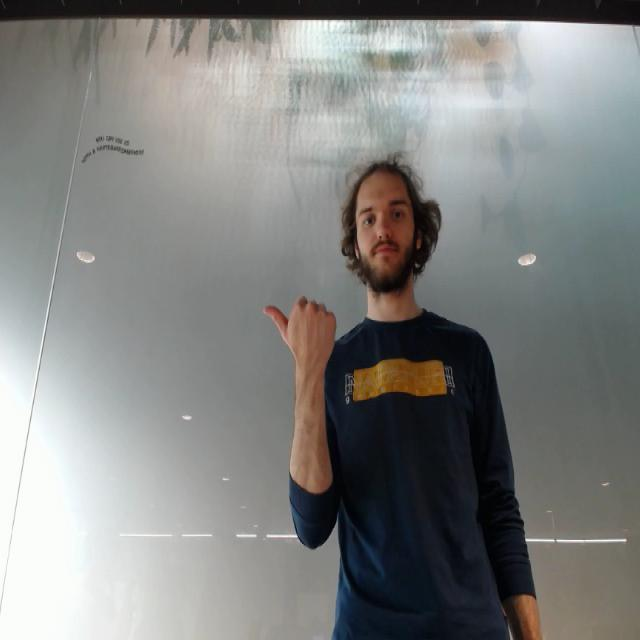left: (260, 290, 341, 372)
